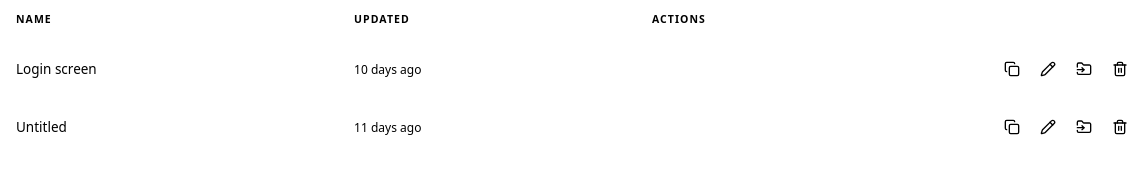
Scenario: FilesTable - files (existing behavior) › shows a message and stays in edit mode when renaming fails with a server error
This screenshot has width=1144, height=173.
Click the button named "Rename" in the row of "Login screen". click: x=1048, y=69
box: [1032,53,1064,85]
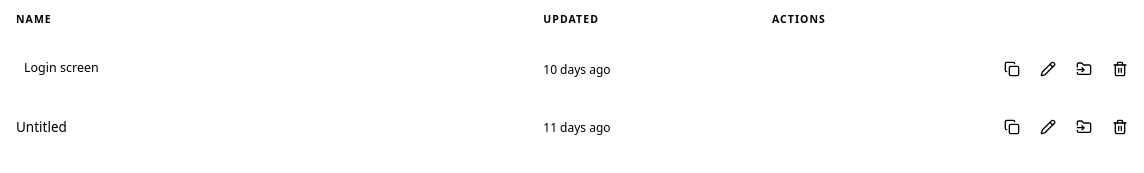
Replace the text in the field named "File name" with "Sign in screen". click: x=264, y=69
box: [24,53,503,84]
Then press Enter
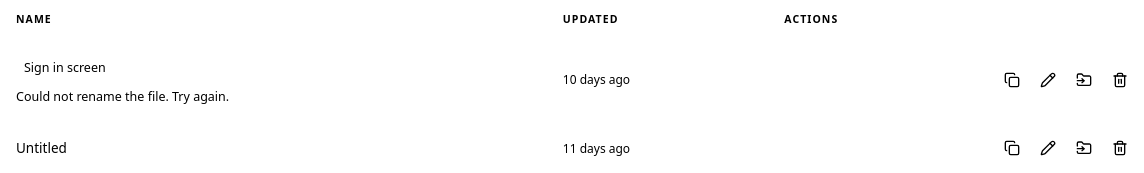
Now the text "Could not rename the file. Try again." is shown, box [16,88,229,104]
